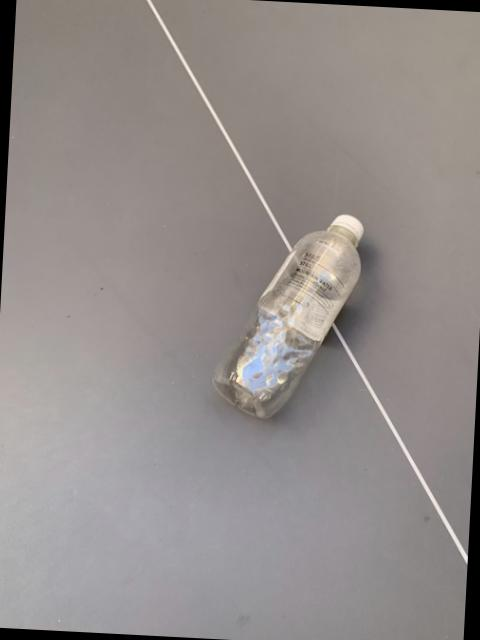plastic: (212, 214, 362, 416)
